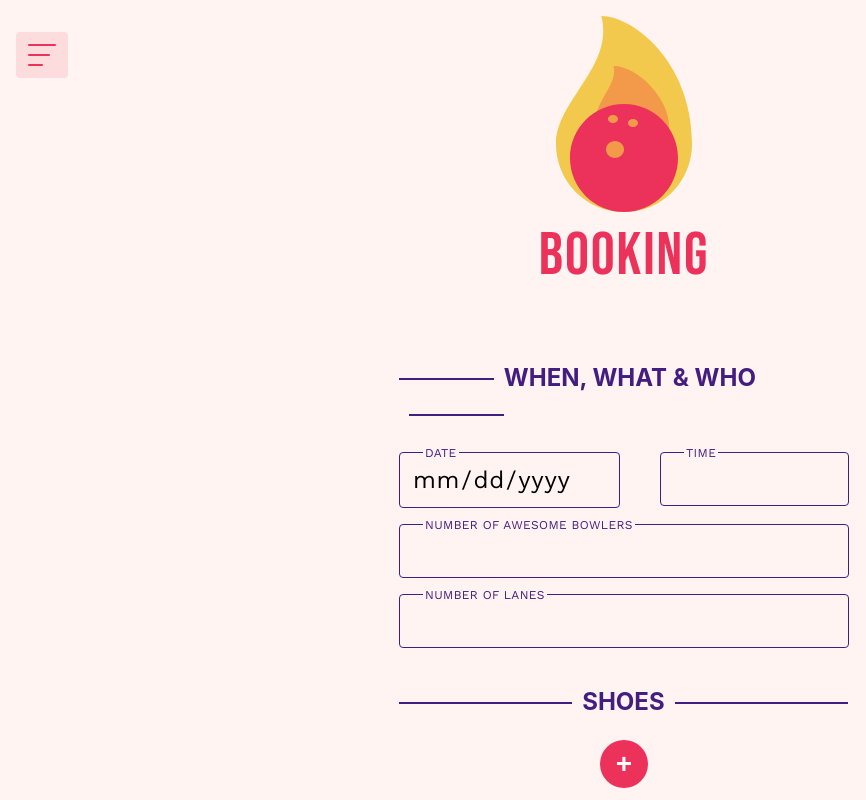
it: not be able to book if any inputfield is missing spec › should show an error message because only shoes are filled in
Click the button with class "shoes__button" at point(624, 764), box [600, 740, 648, 788]
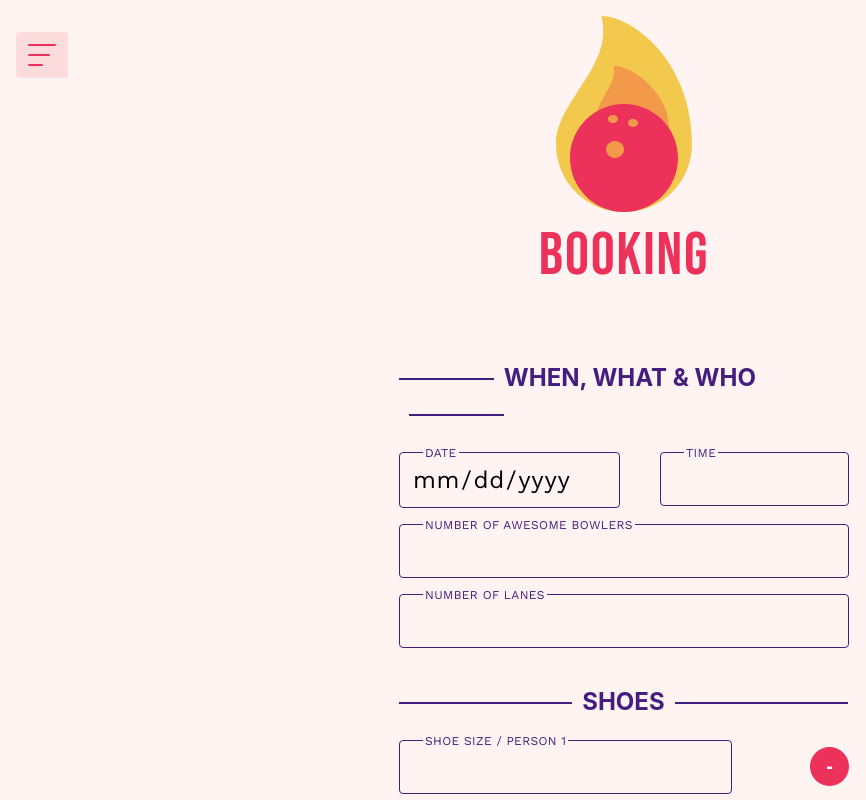
Type "40" into the field with class "shoes__input" at point(566, 767), box [399, 740, 732, 794]
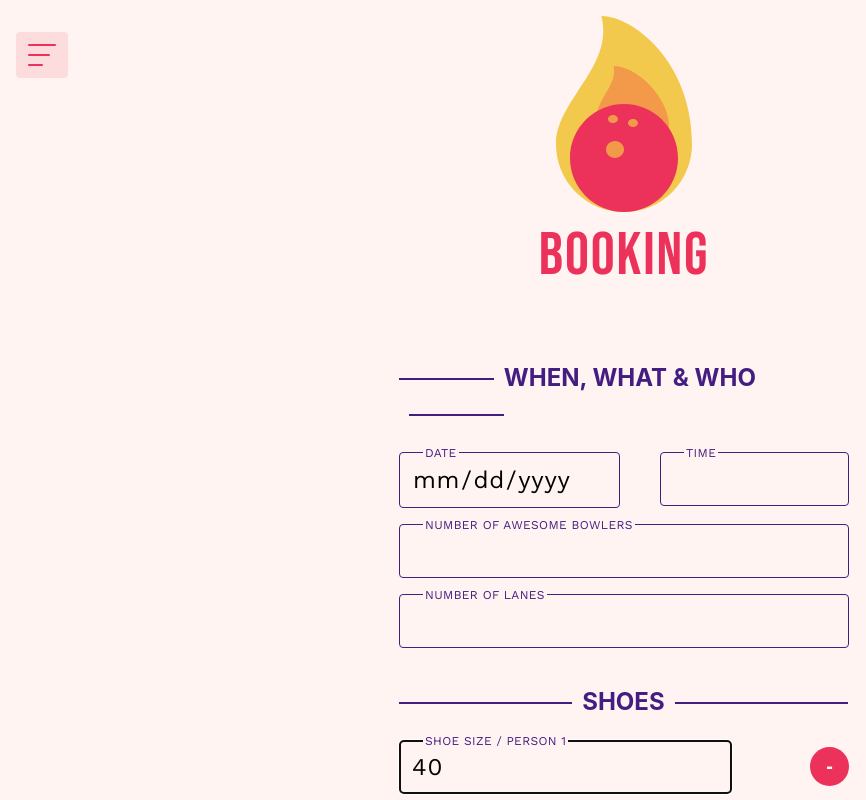
Scroll
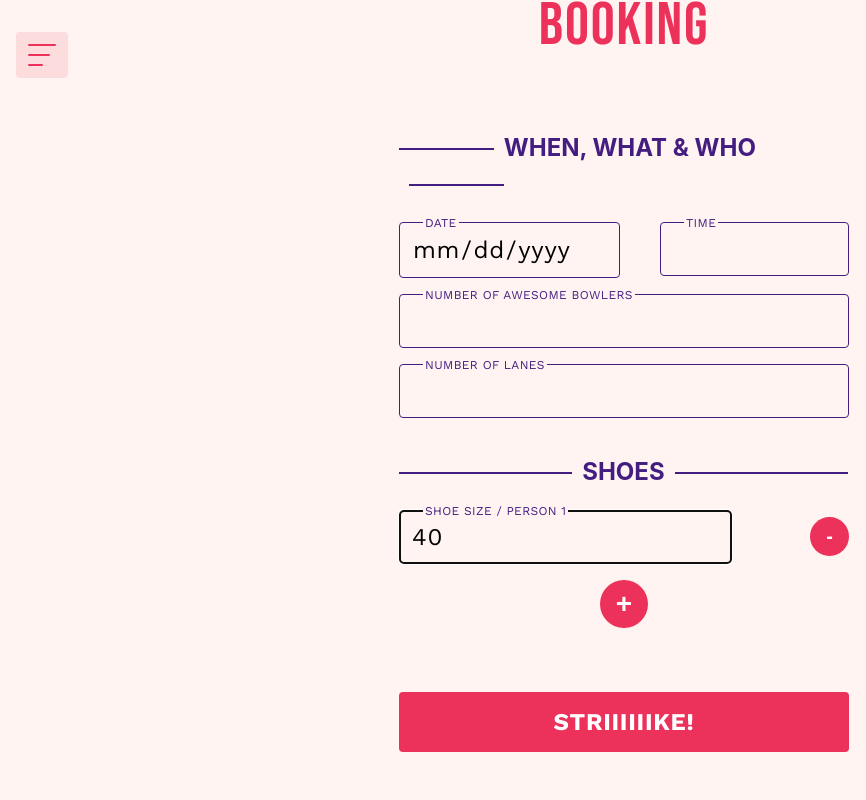
Click the button with class "booking__button" at point(624, 722), box [399, 692, 849, 752]
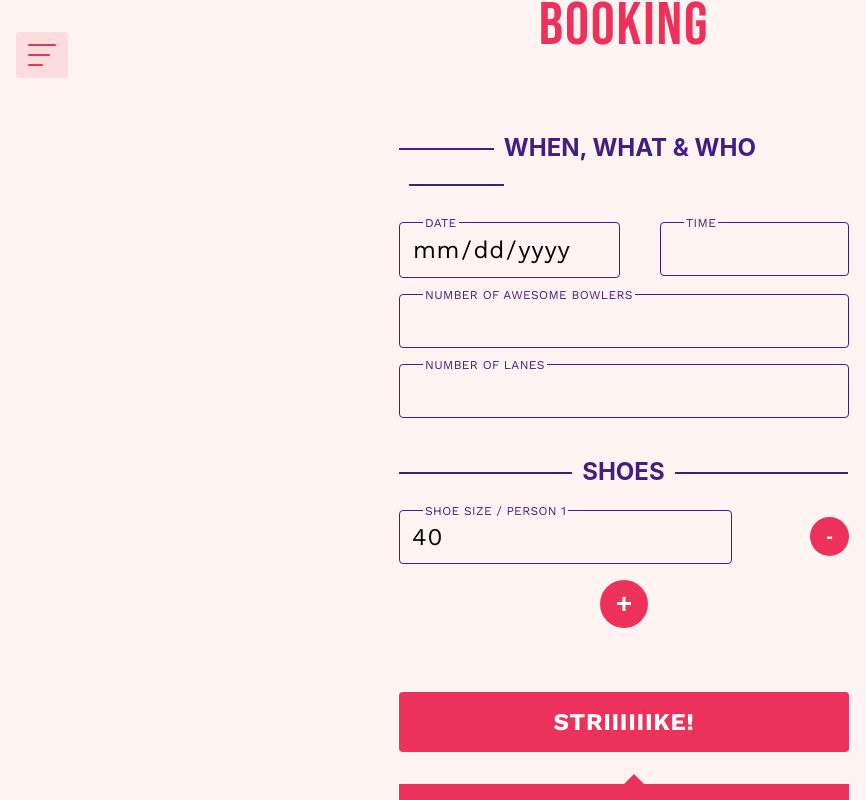
Expected: the element with class "error-message" is shown, [399, 784, 849, 799]
